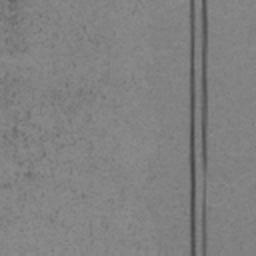Scratches: (189, 0, 196, 256), (202, 0, 208, 172), (202, 198, 207, 256)
